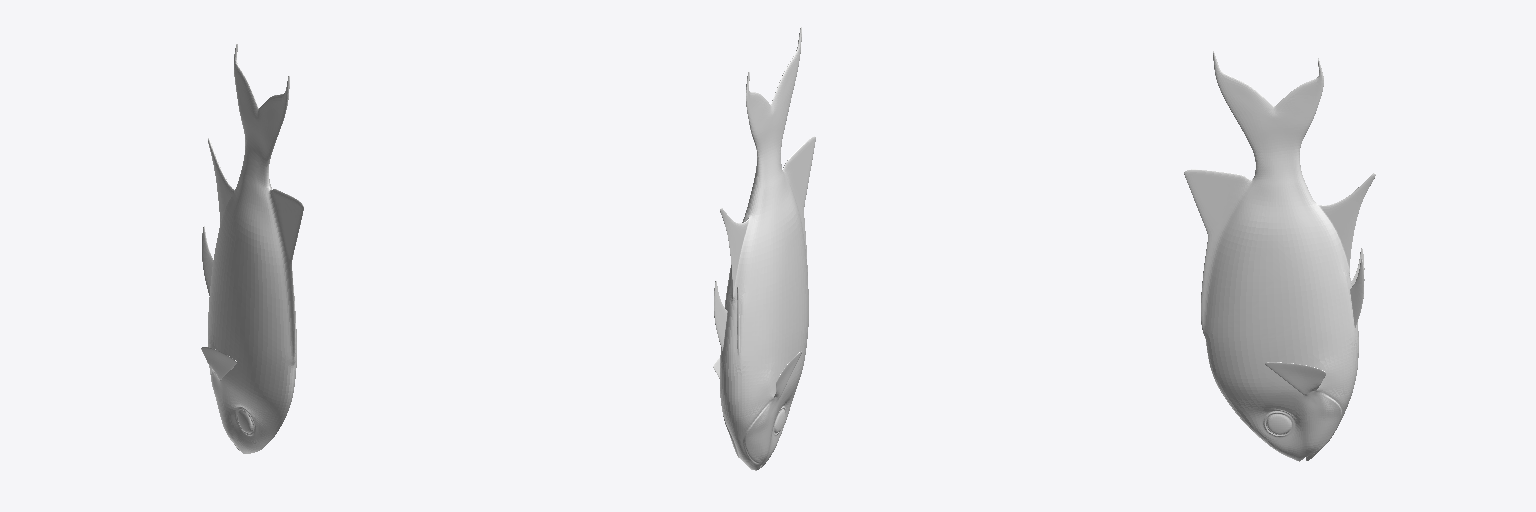
Rendered from 13007_Blue_Green_Reef_Chromis_v1.obj.
The picture shows the model from 3 angles: view 1: azimuth 30°, elevation 25°; view 2: azimuth 150°, elevation 25°; view 3: azimuth 270°, elevation 25°; orthographic projection.
Parts seen in each view (by area): view 1: 13007_Blue_Green_Reef_Chromis_v1; view 2: 13007_Blue_Green_Reef_Chromis_v1; view 3: 13007_Blue_Green_Reef_Chromis_v1.
Boxes of the visible parts, x1=… form: 13007_Blue_Green_Reef_Chromis_v1: x1=201, y1=44, x2=303, y2=453; 13007_Blue_Green_Reef_Chromis_v1: x1=713, y1=27, x2=815, y2=470; 13007_Blue_Green_Reef_Chromis_v1: x1=1184, y1=51, x2=1375, y2=461.
Bounding box in the file's own units: 1.25 × 7.69 × 3.26.